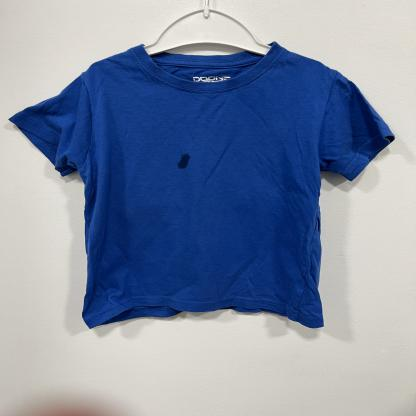stain: (175, 152, 195, 172)
